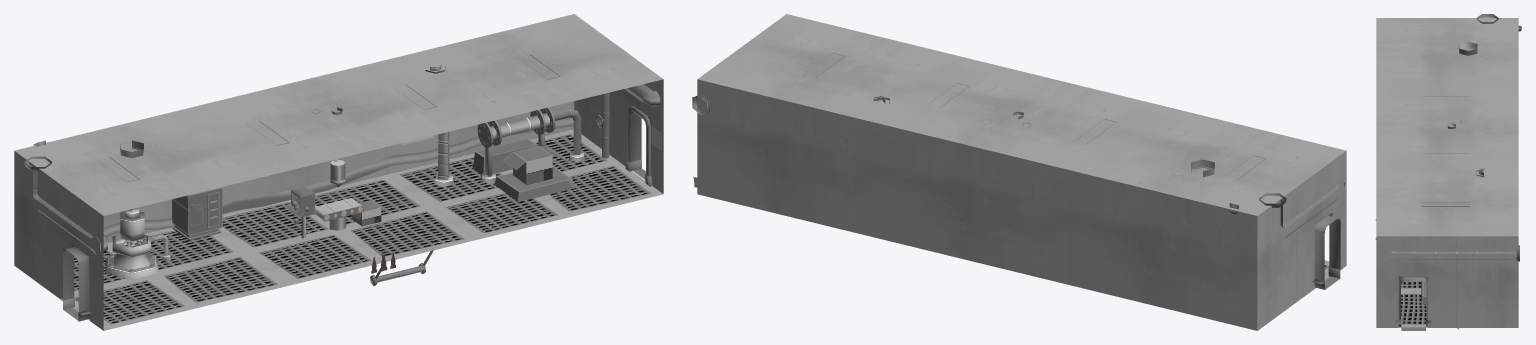
Rendered from MSH_Nuka_room_L1_R3_optimized.fbx.
The picture shows the model from 3 angles, left to right: view 1: azimuth 30°, elevation 25°; view 2: azimuth 150°, elevation 25°; view 3: azimuth 270°, elevation 25°; orthographic projection. The views are drawn at different scales.
Visible parts, largest first — view 1: lightmap0, lightmap1, lightmap-1, MSH_Nuka_room_L1_ani_01 1, MSH_Nuka_room_L1_ani_04; view 2: lightmap0, lightmap1, lightmap-1; view 3: lightmap0, lightmap1, lightmap-1.
Part boxes in pixels (<box>): lightmap0: <box>14,14,663,330</box>; lightmap1: <box>24,54,661,279</box>; lightmap-1: <box>63,111,649,320</box>; MSH_Nuka_room_L1_ani_01 1: <box>120,208,144,241</box>; MSH_Nuka_room_L1_ani_04: <box>370,249,433,286</box>; lightmap0: <box>697,14,1346,330</box>; lightmap1: <box>692,52,1344,237</box>; lightmap-1: <box>1314,215,1340,289</box>; lightmap0: <box>1376,18,1518,327</box>; lightmap1: <box>1382,14,1521,329</box>; lightmap-1: <box>1401,277,1426,330</box>.
Size of the model in its own units: 30.91 by 7.82 by 8.49.
